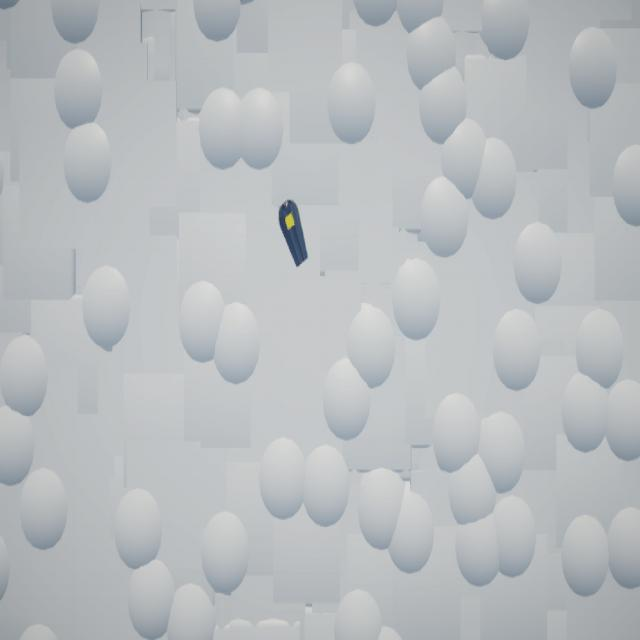handle_folk: (280, 200, 309, 269)
